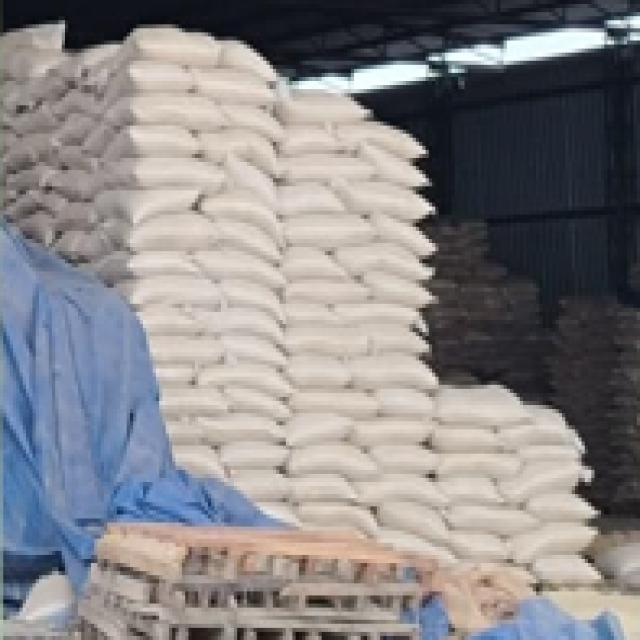Sack-2: (102, 135, 224, 200), (102, 114, 208, 160), (328, 237, 428, 284), (97, 176, 195, 222), (332, 175, 436, 218), (117, 274, 216, 316), (260, 268, 371, 304), (132, 23, 222, 66), (118, 216, 216, 253), (192, 405, 282, 445), (119, 95, 222, 129), (349, 143, 426, 186), (506, 522, 595, 559), (276, 327, 378, 358), (268, 355, 351, 393), (507, 464, 590, 502), (430, 394, 529, 425), (278, 214, 367, 248), (207, 247, 277, 290), (344, 121, 424, 158), (278, 387, 375, 417), (105, 249, 200, 278), (197, 195, 278, 229), (190, 66, 268, 101), (222, 280, 282, 325), (371, 272, 448, 307), (372, 218, 440, 256), (119, 59, 195, 92), (502, 407, 574, 440), (217, 222, 279, 260), (280, 448, 374, 473), (527, 560, 614, 587), (214, 97, 274, 136), (345, 360, 442, 384), (378, 498, 442, 534), (218, 27, 272, 67), (346, 418, 429, 444), (439, 475, 502, 509), (438, 507, 531, 530), (434, 426, 510, 454), (228, 339, 290, 373), (226, 463, 287, 497), (447, 455, 518, 484), (528, 490, 591, 522), (204, 130, 269, 160), (219, 312, 283, 342), (230, 166, 278, 205), (514, 441, 583, 468), (272, 187, 341, 214), (279, 95, 366, 115), (280, 161, 366, 181), (234, 388, 284, 422), (214, 440, 281, 464), (358, 482, 438, 502), (360, 452, 439, 472), (370, 332, 432, 356), (280, 130, 332, 158), (206, 372, 284, 390), (444, 530, 502, 554), (261, 422, 343, 438), (296, 248, 342, 276), (335, 307, 426, 321), (265, 306, 339, 323)
